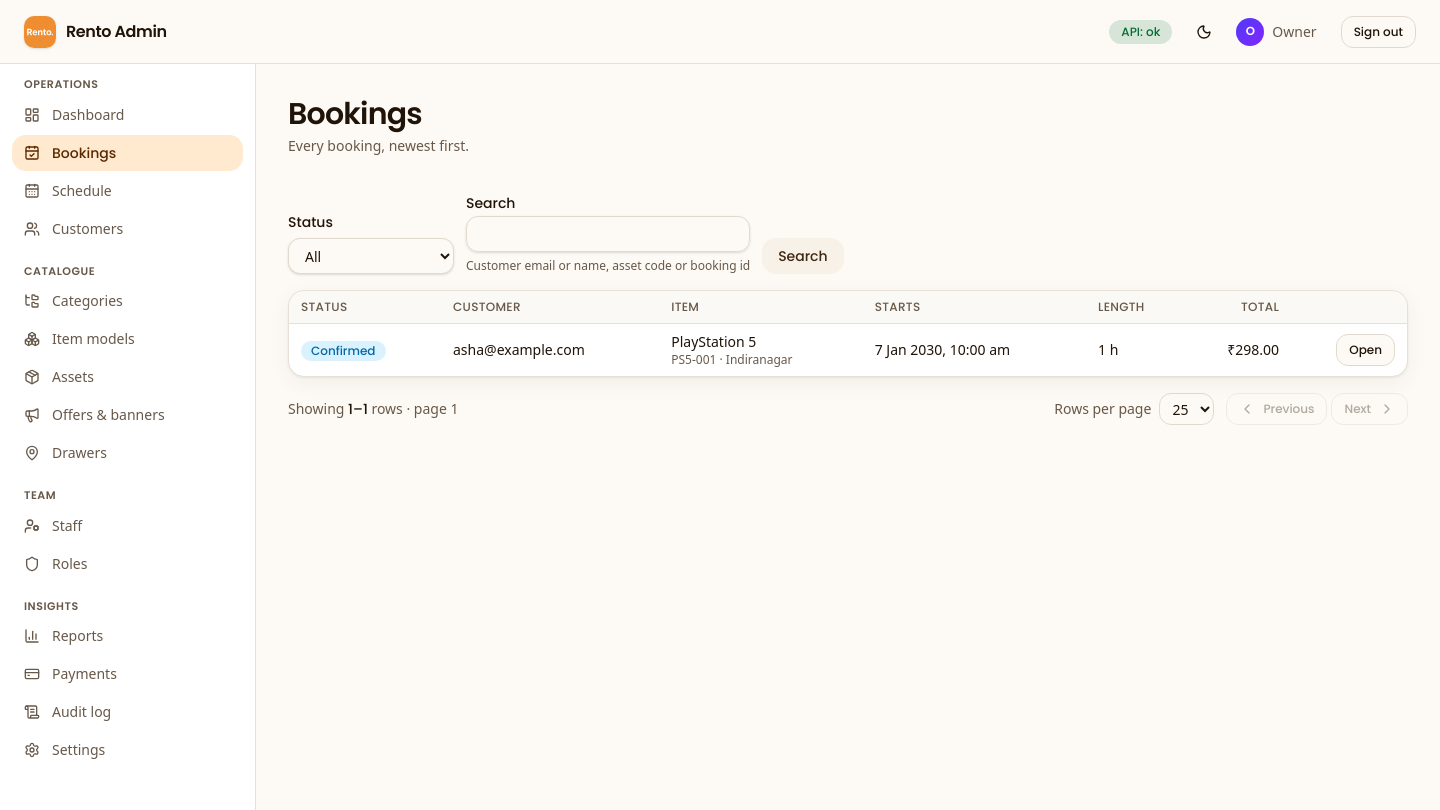
Test: one booking › B-05 the detail shows price, payment and the history, with times in the drawer’s zone
The width and height of the screenshot is (1440, 810).
Click the button with aria-label "open booking of asha@example.com" at (1366, 350), box top-left (1336, 334), bottom-right (1395, 366)
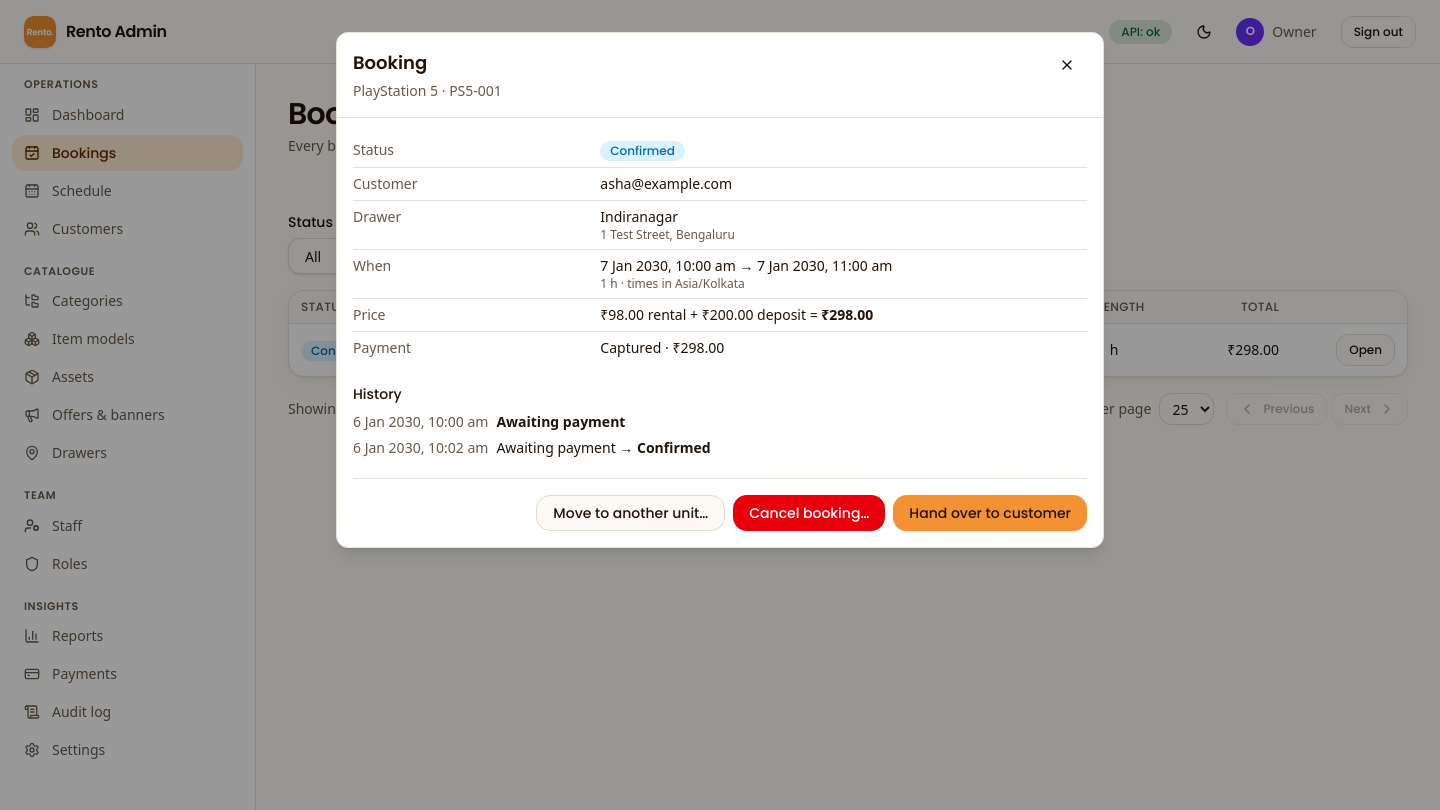
Expected: the text "Asia/Kolkata" is shown, top-left (675, 275), bottom-right (745, 292)
Expected: the text "₹298.00" is shown, top-left (821, 305), bottom-right (873, 324)
Expected: the text "Captured · ₹298.00" is shown, top-left (600, 338), bottom-right (724, 357)
